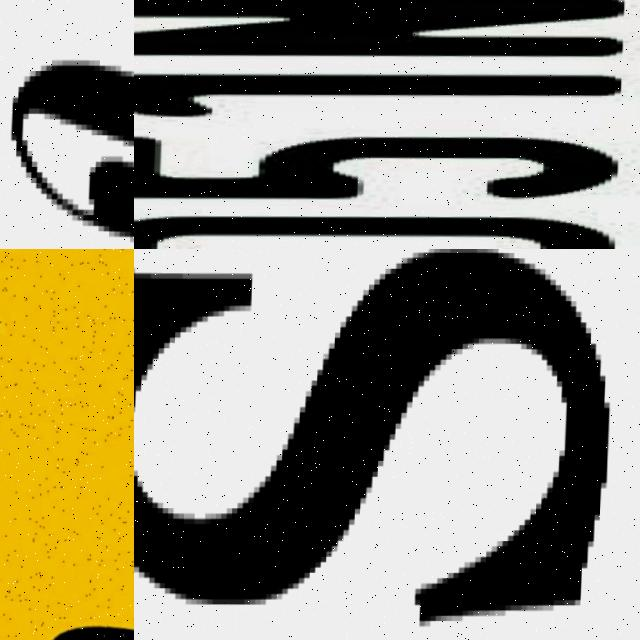0: (3, 598, 134, 640)
1: (134, 61, 634, 128)
3: (0, 47, 134, 249)
5: (134, 132, 632, 210)
D: (134, 208, 616, 249)
N: (134, 0, 640, 66)
S: (134, 249, 621, 640)
